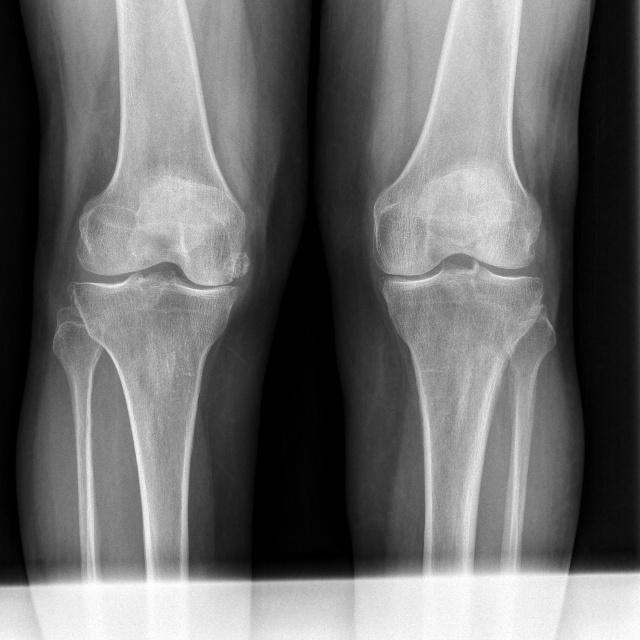Knee: (72, 203, 251, 347), (368, 198, 546, 338)
